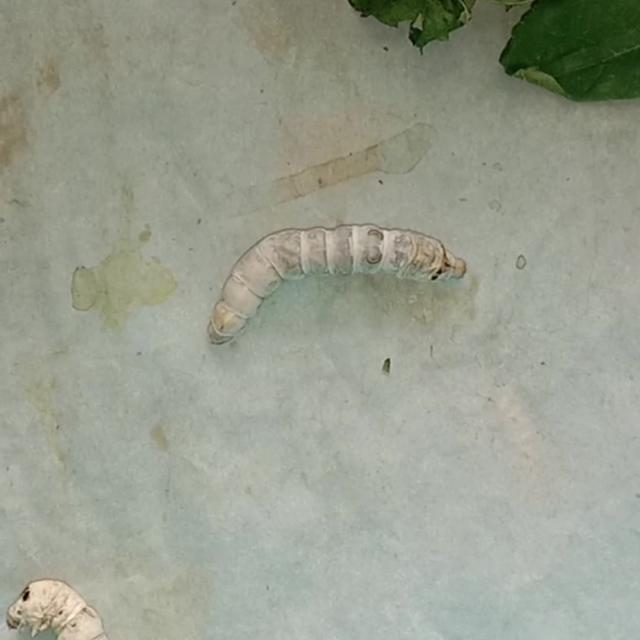Grasserie: (184, 188, 485, 362)
